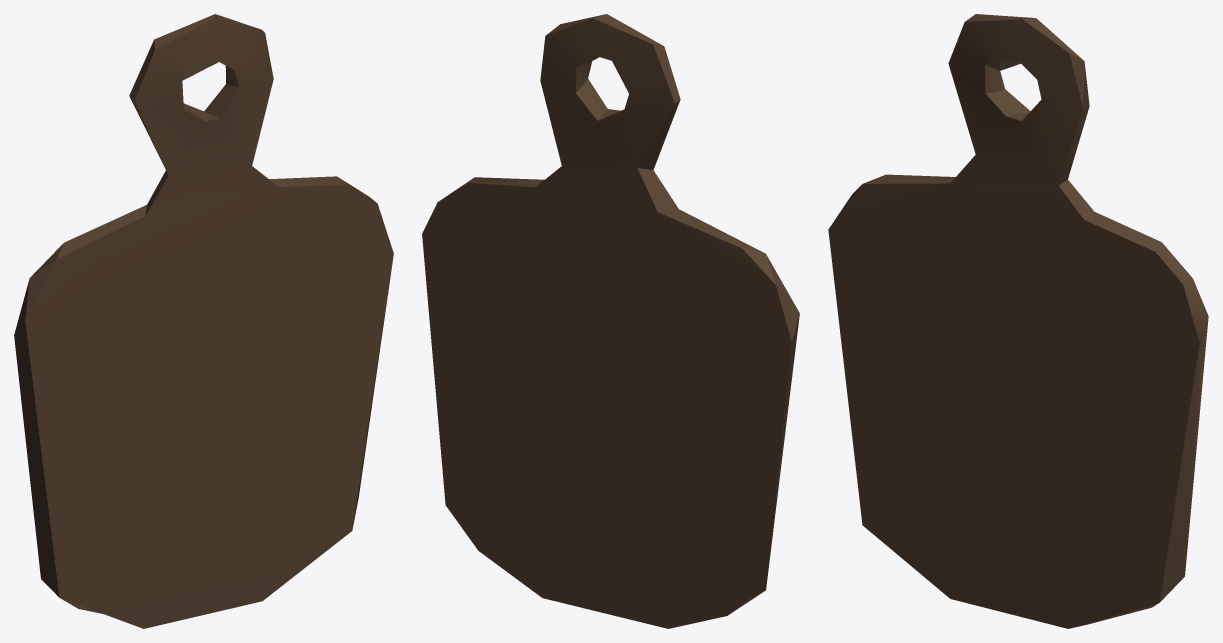
Rendered from CuttingBoardBig.fbx.
The picture shows the model from 3 angles, left to right: view 1: azimuth 30°, elevation 25°; view 2: azimuth 150°, elevation 25°; view 3: azimuth 330°, elevation 25°; orthographic projection.
Parts seen in each view (by area): view 1: CuttingBoardBigLowPoly; view 2: CuttingBoardBigLowPoly; view 3: CuttingBoardBigLowPoly.
Part boxes in pixels (<box>): CuttingBoardBigLowPoly: <box>14,14,393,628</box>; CuttingBoardBigLowPoly: <box>422,14,799,628</box>; CuttingBoardBigLowPoly: <box>828,14,1208,628</box>.
Size of the model in its own units: 25.81 by 39.49 by 1.64.
